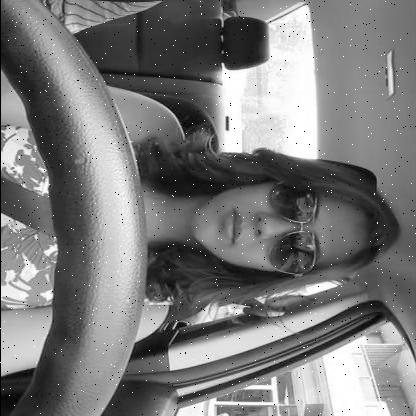seatbelt: (0, 144, 412, 322)
